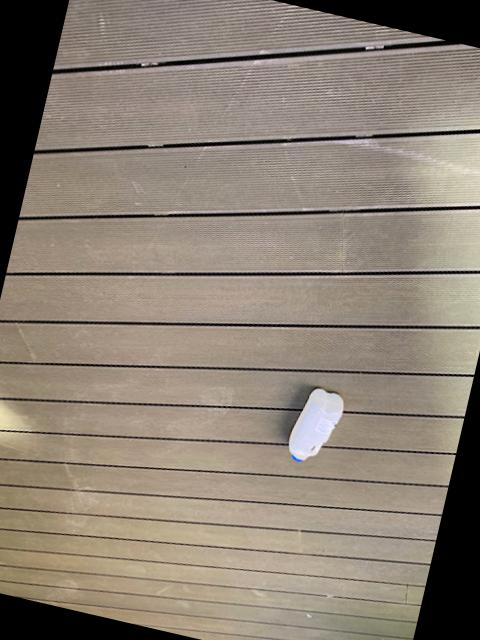plastic: (286, 388, 340, 460)
